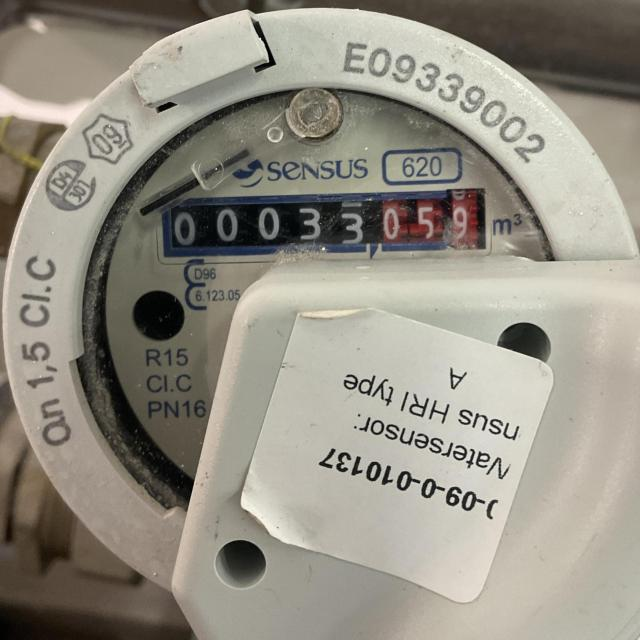gaz_meter: (3, 6, 632, 583)
indication: (162, 189, 488, 264)
